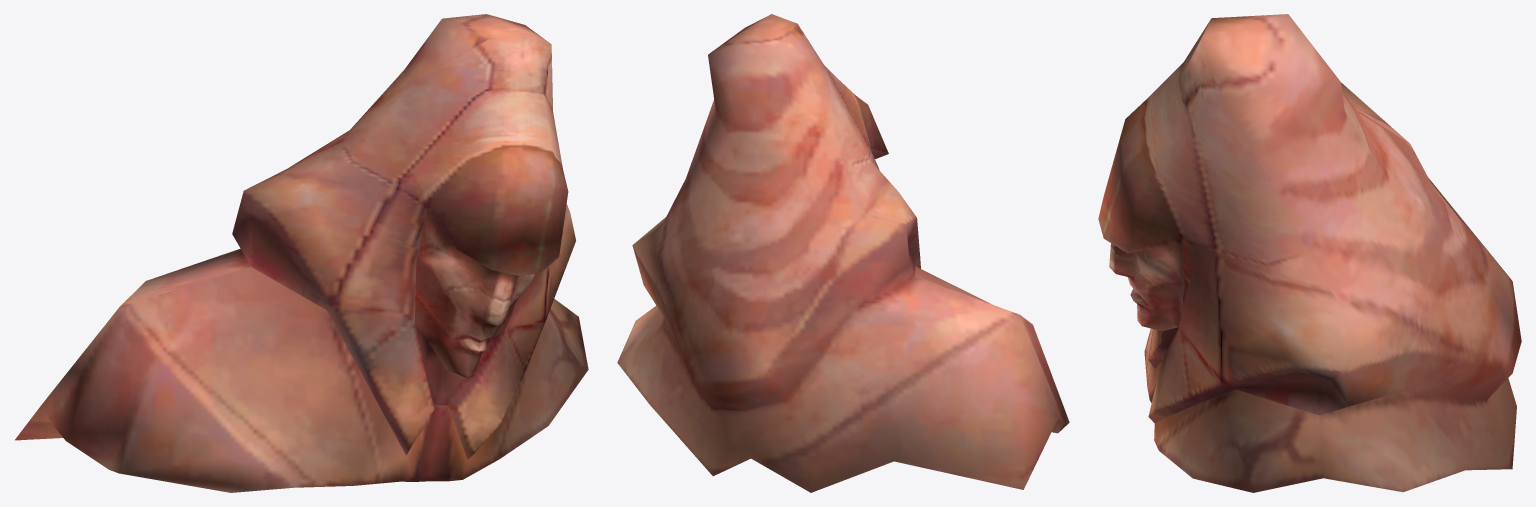
The model's file is kor_tomb_item_statue_02_broken_head.glb.
The picture shows the model from 3 angles, left to right: view 1: azimuth 30°, elevation 25°; view 2: azimuth 150°, elevation 25°; view 3: azimuth 270°, elevation 25°; orthographic projection. The views are drawn at different scales.
Visible parts, largest first — view 1: kor_tomb_item_statue_02_broken_head; view 2: kor_tomb_item_statue_02_broken_head; view 3: kor_tomb_item_statue_02_broken_head.
Boxes of the visible parts, <box> form: kor_tomb_item_statue_02_broken_head: <box>15,14,588,492</box>; kor_tomb_item_statue_02_broken_head: <box>617,14,1069,492</box>; kor_tomb_item_statue_02_broken_head: <box>1098,14,1521,492</box>.
Bounding box in the file's own units: 0.4327 × 0.3406 × 0.2775.
1 material, 1 textured.
